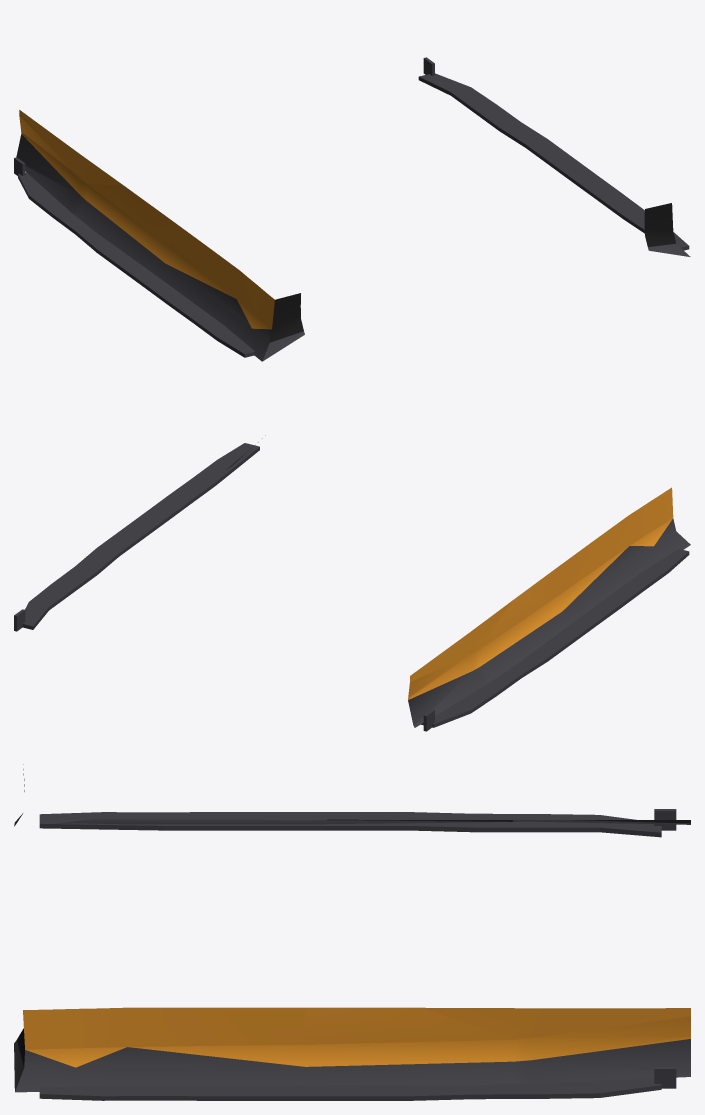
File: protoCompact_sideSkirts_kurogane.glb
3 renders of one model, top to bottom at view 1: azimuth 30°, elevation 25°; view 2: azimuth 150°, elevation 25°; view 3: azimuth 270°, elevation 25°, orthographic. The views are drawn at different scales.
Parts seen in each view (by area): view 1: sideSkirts_kurogane; view 2: sideSkirts_kurogane; view 3: sideSkirts_kurogane.
Boxes of the visible parts, x1,y1,x2,y2 form: sideSkirts_kurogane: (14,57,690,361); sideSkirts_kurogane: (14,435,690,731); sideSkirts_kurogane: (14,764,690,1100).
Size of the model in its own units: 1.84 by 0.2223 by 1.85.
